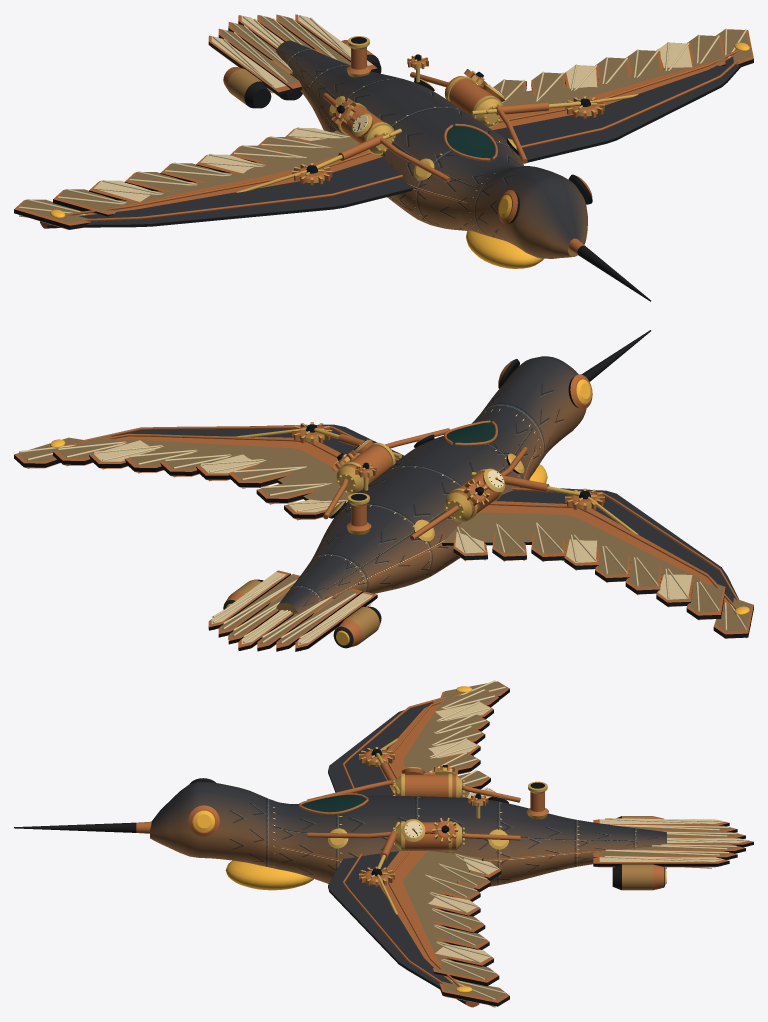
3 renders of one model, top to bottom at view 1: azimuth 30°, elevation 25°; view 2: azimuth 150°, elevation 25°; view 3: azimuth 270°, elevation 25°, orthographic. The views are drawn at different scales.
Visible parts, largest first — view 1: hummingbird_hull; view 2: hummingbird_hull; view 3: hummingbird_hull.
Part boxes in pixels (<box>): hummingbird_hull: <box>14,14,753,301</box>; hummingbird_hull: <box>14,330,753,651</box>; hummingbird_hull: <box>14,680,753,1007</box>.
Size of the model in its own units: 17 by 2.51 by 16.53.
1 material, 1 textured.
